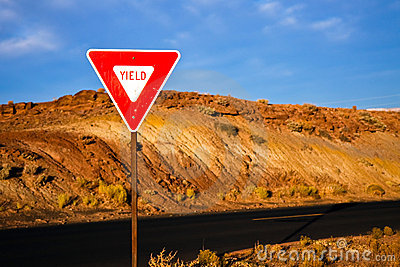yield_sign: (85, 48, 182, 132)
